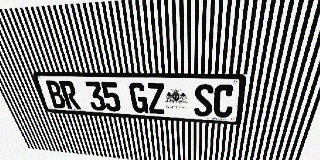3: (85, 81, 107, 111)
5: (100, 82, 122, 112)
B: (44, 80, 67, 109)
C: (213, 84, 235, 118)
G: (128, 82, 149, 113)
R: (58, 81, 81, 109)
S: (194, 84, 214, 117)
Z: (146, 83, 166, 114)
